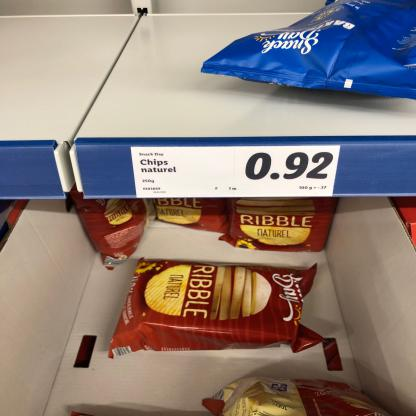prtg: (132, 146, 341, 199)
